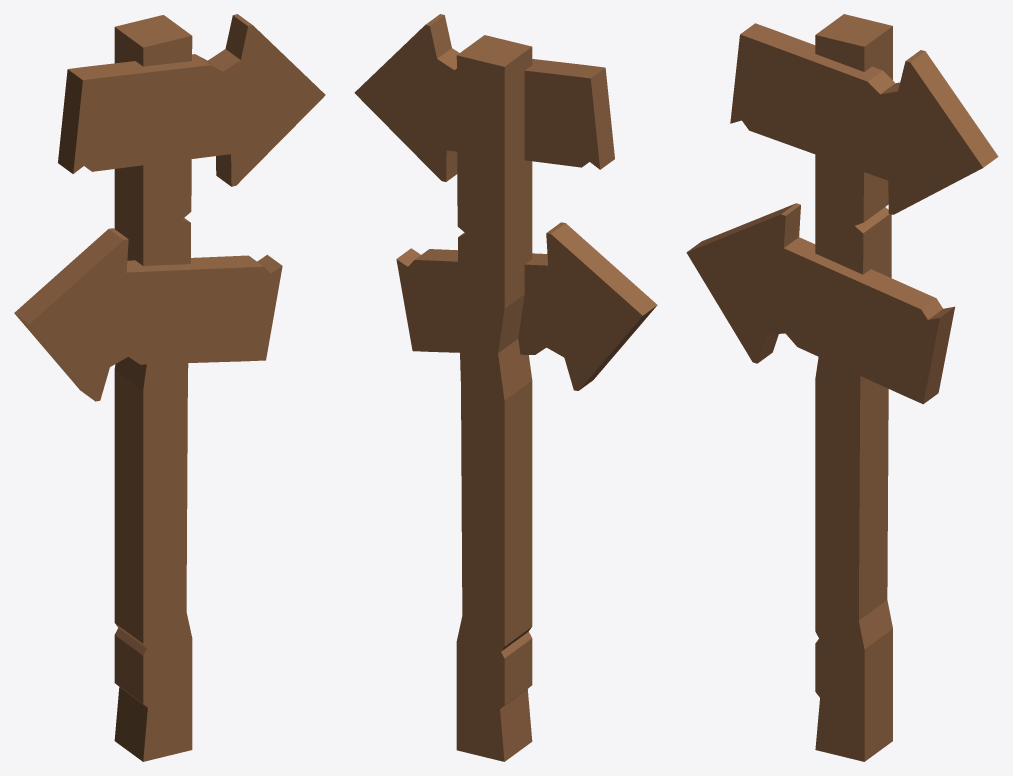
Rendered from Sign.glb.
3 renders of one model, left to right at view 1: azimuth 30°, elevation 25°; view 2: azimuth 150°, elevation 25°; view 3: azimuth 330°, elevation 25°, orthographic. The views are drawn at different scales.
Visible parts, largest first — view 1: Sign_LeftRight; view 2: Sign_LeftRight; view 3: Sign_LeftRight.
Boxes of the visible parts, bbox=[...] form: Sign_LeftRight: bbox=[14, 14, 325, 761]; Sign_LeftRight: bbox=[354, 14, 657, 761]; Sign_LeftRight: bbox=[686, 14, 998, 761].
Size of the model in its own units: 1.3 by 3.01 by 0.2746.
